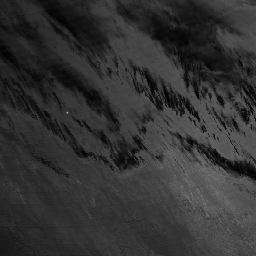Target: (64, 110, 69, 115)
